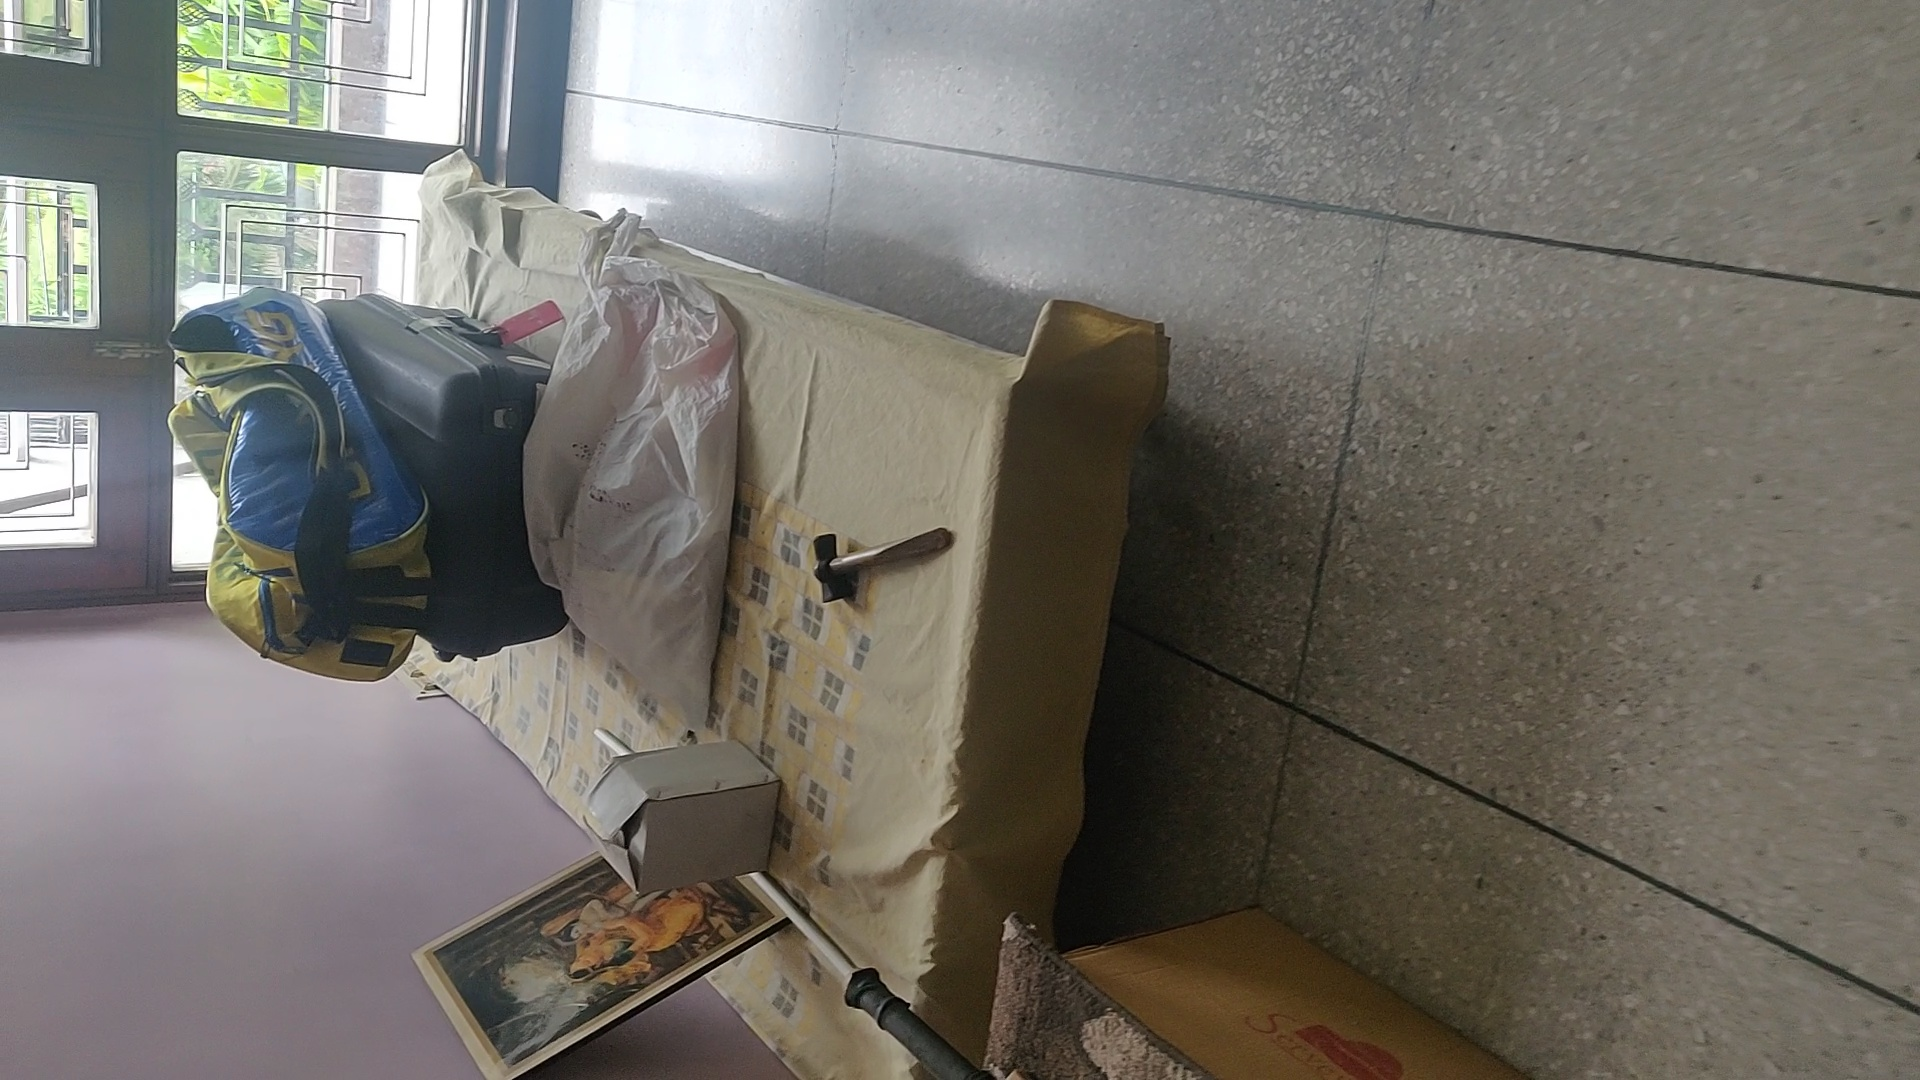hammer: (810, 524, 957, 603)
